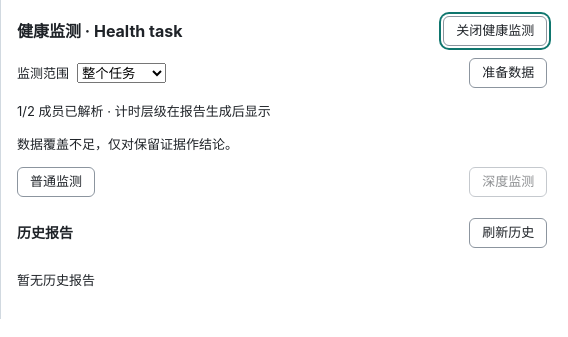
Scenario: prepares records through member=all then refreshes member coverage
Click the button "准备数据": (508, 73) [469,58,547,88]
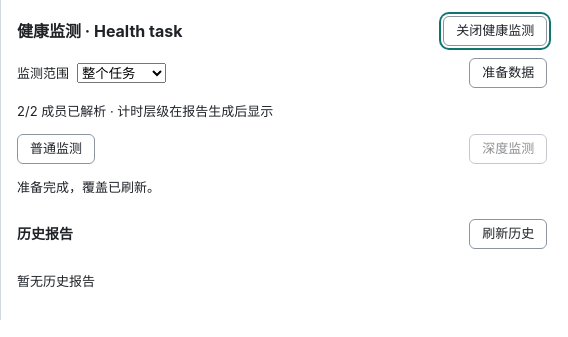
Check: the text "2/2 成员已解析" is shown, box [17,103,273,119]
